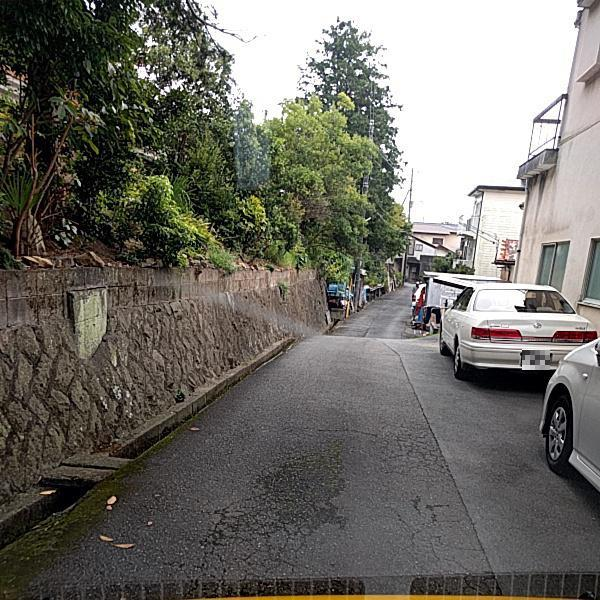D20: (205, 421, 473, 591)
